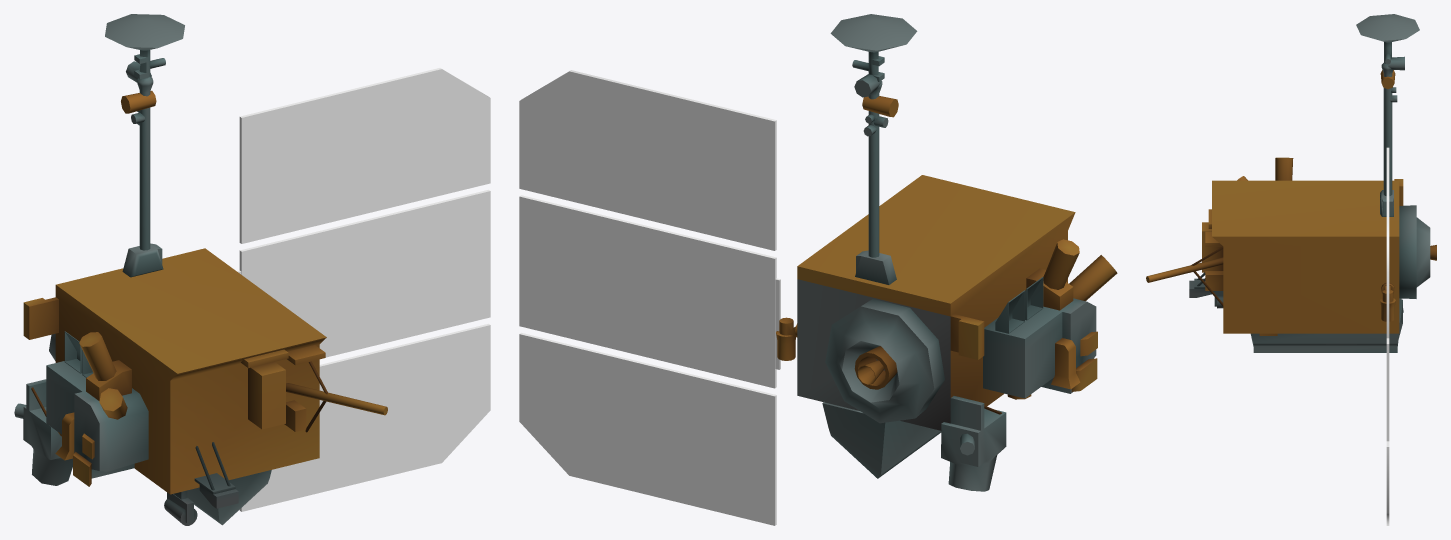
File: space-satellites-satellite_v13.glb
3 renders of one model, left to right at view 1: azimuth 30°, elevation 25°; view 2: azimuth 150°, elevation 25°; view 3: azimuth 270°, elevation 25°, orthographic. The views are drawn at different scales.
Parts seen in each view (by area): view 1: Satellite_v13; view 2: Satellite_v13; view 3: Satellite_v13.
Boxes of the visible parts, x1=… form: Satellite_v13: x1=14, y1=14, x2=490, y2=525; Satellite_v13: x1=519, y1=14, x2=1117, y2=525; Satellite_v13: x1=1146, y1=14, x2=1436, y2=525.
Size of the model in its own units: 7.89 by 8 by 5.32.
